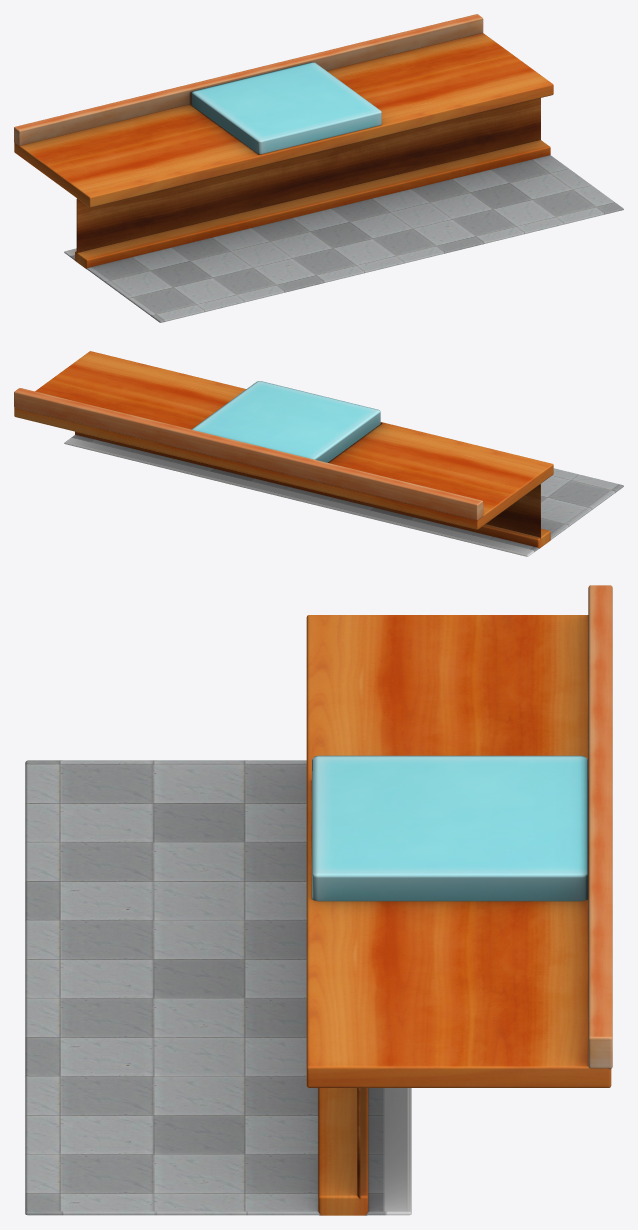
The model's file is table2.fbx.
3 views of the same model, one above another, from view 1: azimuth 30°, elevation 25°; view 2: azimuth 150°, elevation 25°; view 3: azimuth 270°, elevation 25° (orthographic). The views are drawn at different scales.
Visible parts, largest first — view 1: floor, wood02, wood01, box, wood00, wood03; view 2: wood02, wood03, floor, box, wood00, wood01; view 3: floor, wood02, box, wood03, wood00.
Part boxes in pixels (x1,y1,x2,y2): floor: (64, 155, 623, 322); wood02: (14, 33, 553, 207); wood01: (76, 98, 540, 253); box: (192, 62, 381, 154); wood00: (75, 140, 550, 268); wood03: (14, 14, 483, 145); wood02: (14, 351, 553, 529); wood03: (14, 388, 483, 520); floor: (64, 434, 623, 556); box: (191, 381, 380, 462); wood00: (75, 431, 550, 548); wood01: (486, 484, 540, 538); floor: (25, 760, 411, 1215); wood02: (306, 615, 611, 1087); box: (312, 755, 587, 901); wood03: (588, 585, 612, 1068); wood00: (318, 1088, 368, 1215).
Bounding box in the file's own units: 359 × 65.87 × 197.
1 material, 1 textured.
